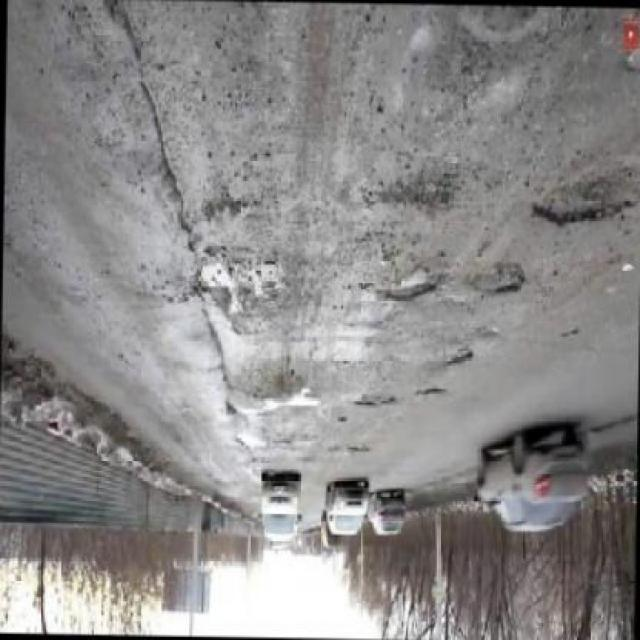pothole1: (530, 174, 638, 232), (399, 167, 453, 213), (380, 268, 438, 309), (482, 257, 527, 305), (351, 386, 395, 416), (445, 346, 472, 374), (410, 385, 444, 401)
